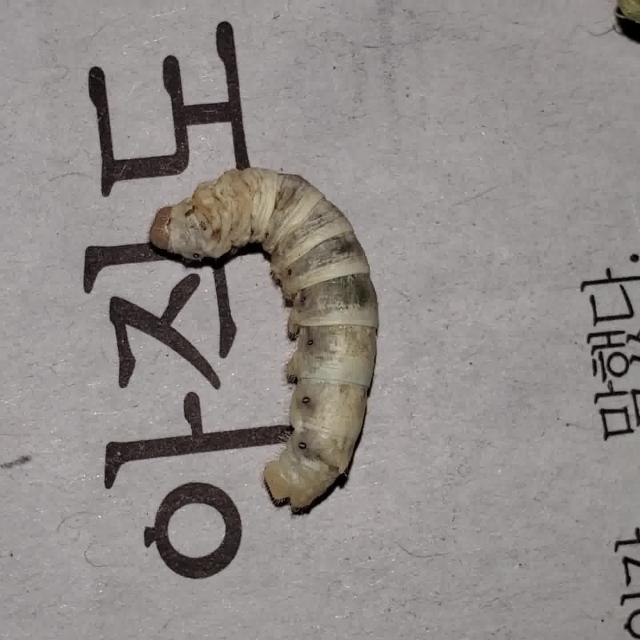Grasserie: (138, 138, 419, 555)
